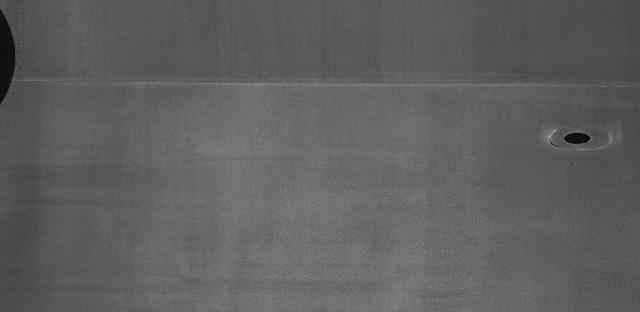punching_hole: (557, 128, 599, 148)
welding_line: (9, 74, 640, 98)
